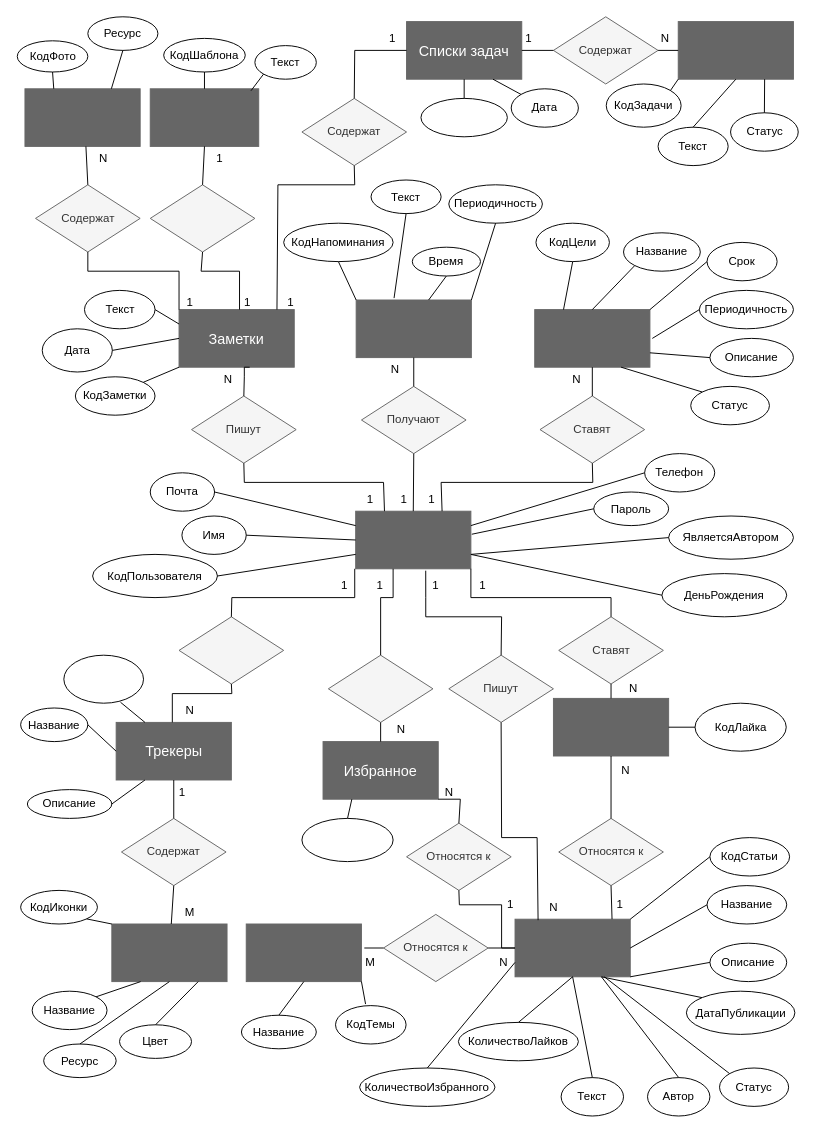
The diagram is 815 pixels wide and 1133 high, and some of its shapes have lost their labels. Each missing label, with the centre of its shape:
Добавляют в: point (380, 688)
Задачи: point (735, 50)
Иконки: point (169, 952)
КодИзбранного: point (347, 839)
КодСписка: point (463, 117)
КодТрекера: point (103, 678)
Лайки: point (610, 726)
Напоминания: point (413, 328)
Пользователи: point (413, 539)
Создают: point (231, 650)
Соответствуют: point (202, 218)
Статьи: point (572, 947)
Темы: point (303, 952)
Фотографии: point (82, 117)
Цели: point (592, 338)
Шаблоны: point (204, 117)
